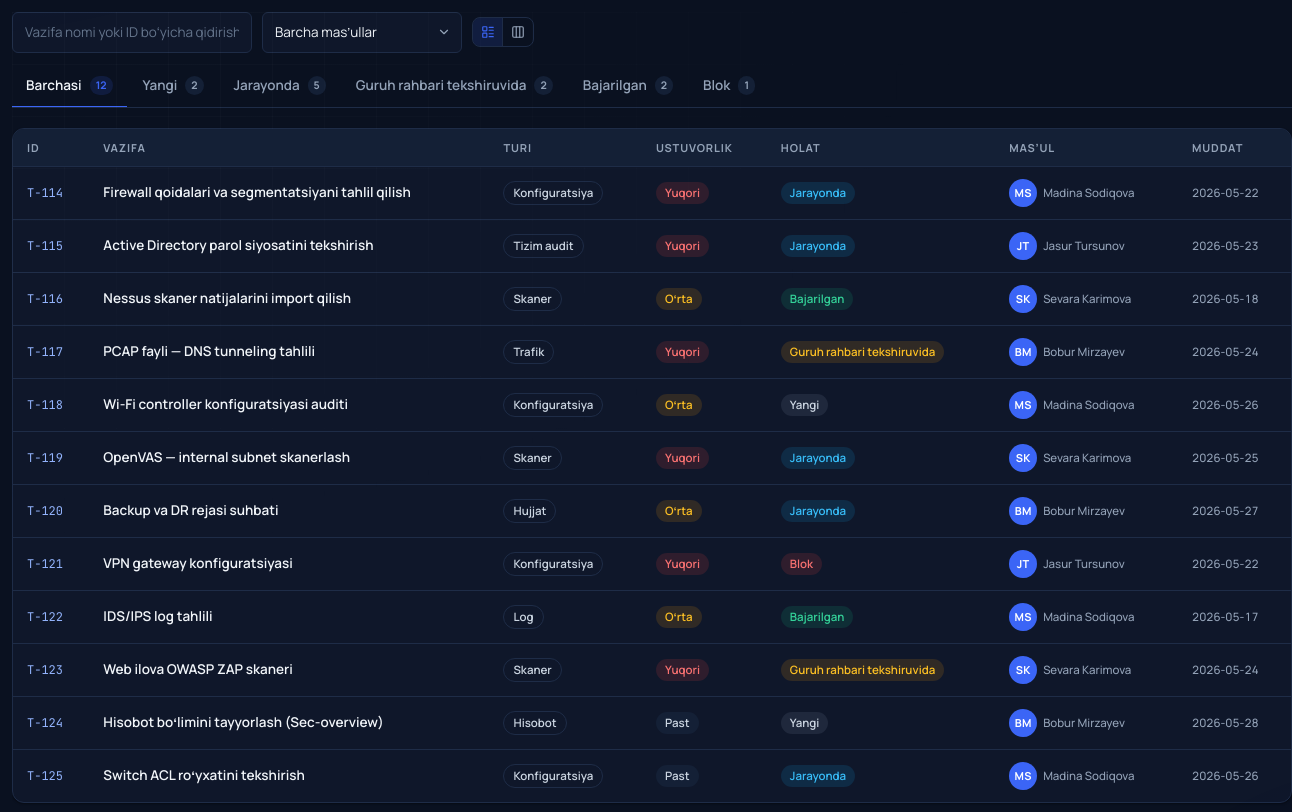
it: TasksTab › filters rows by assignee
// Assignee filter uses a custom combobox — open it then click the option.
Click the dropdown: (362, 32) [262,12,462,53]
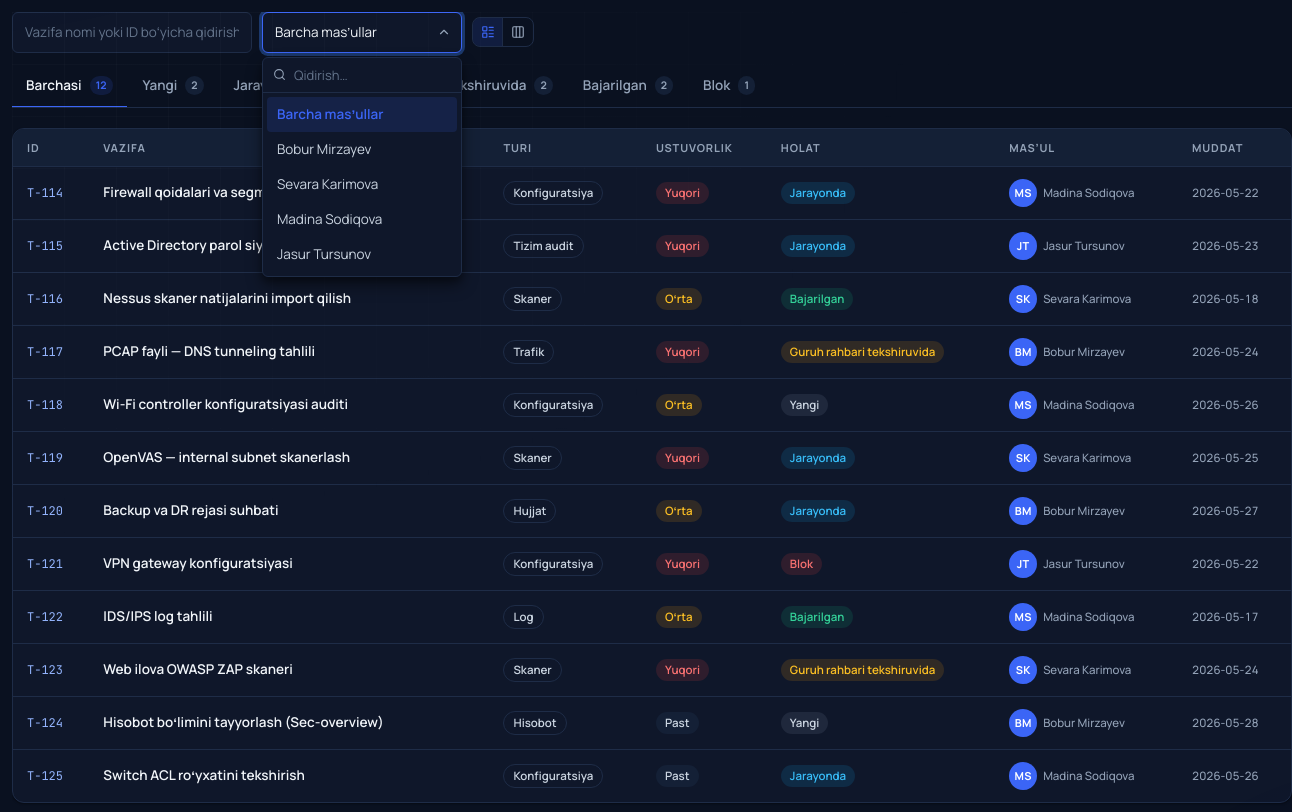
Click the option "Bobur Mirzayev": (324, 149) [277,140,371,158]
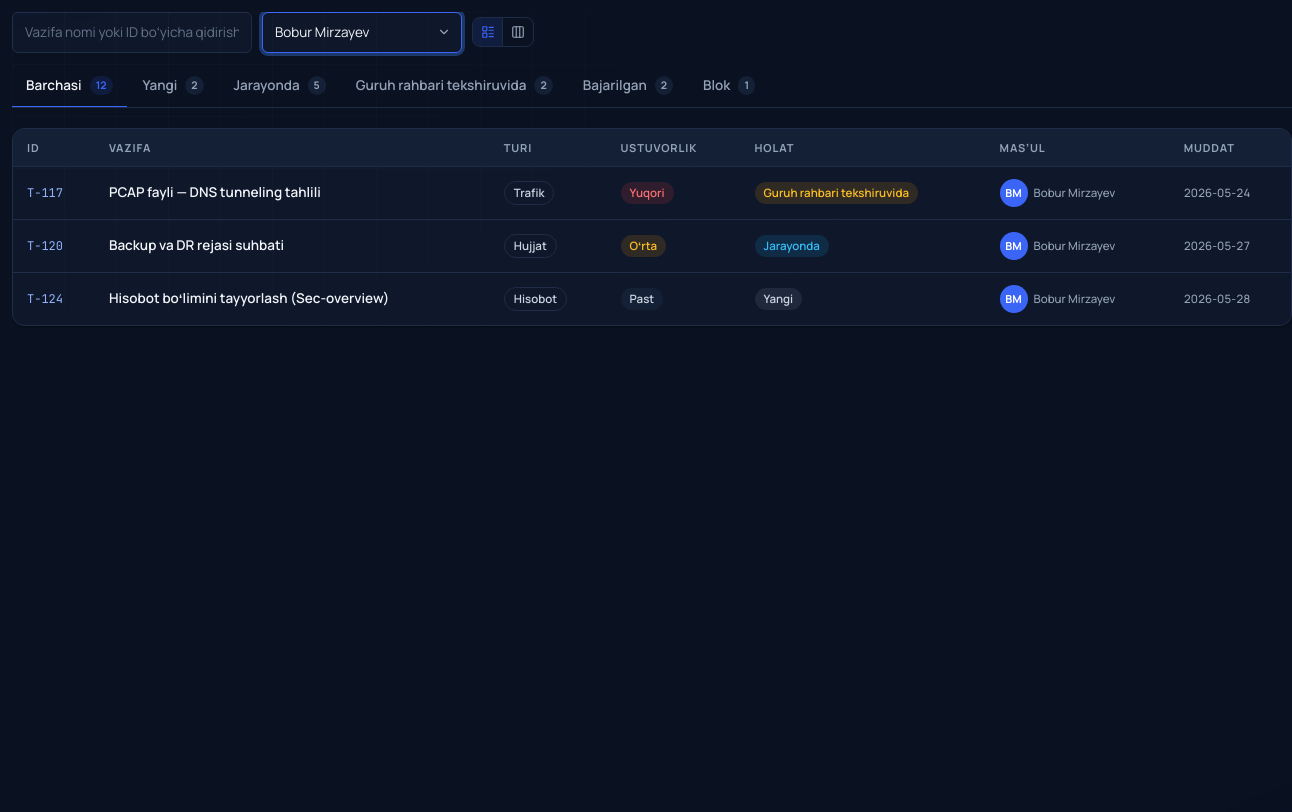
Now the link "T-114" is gone
